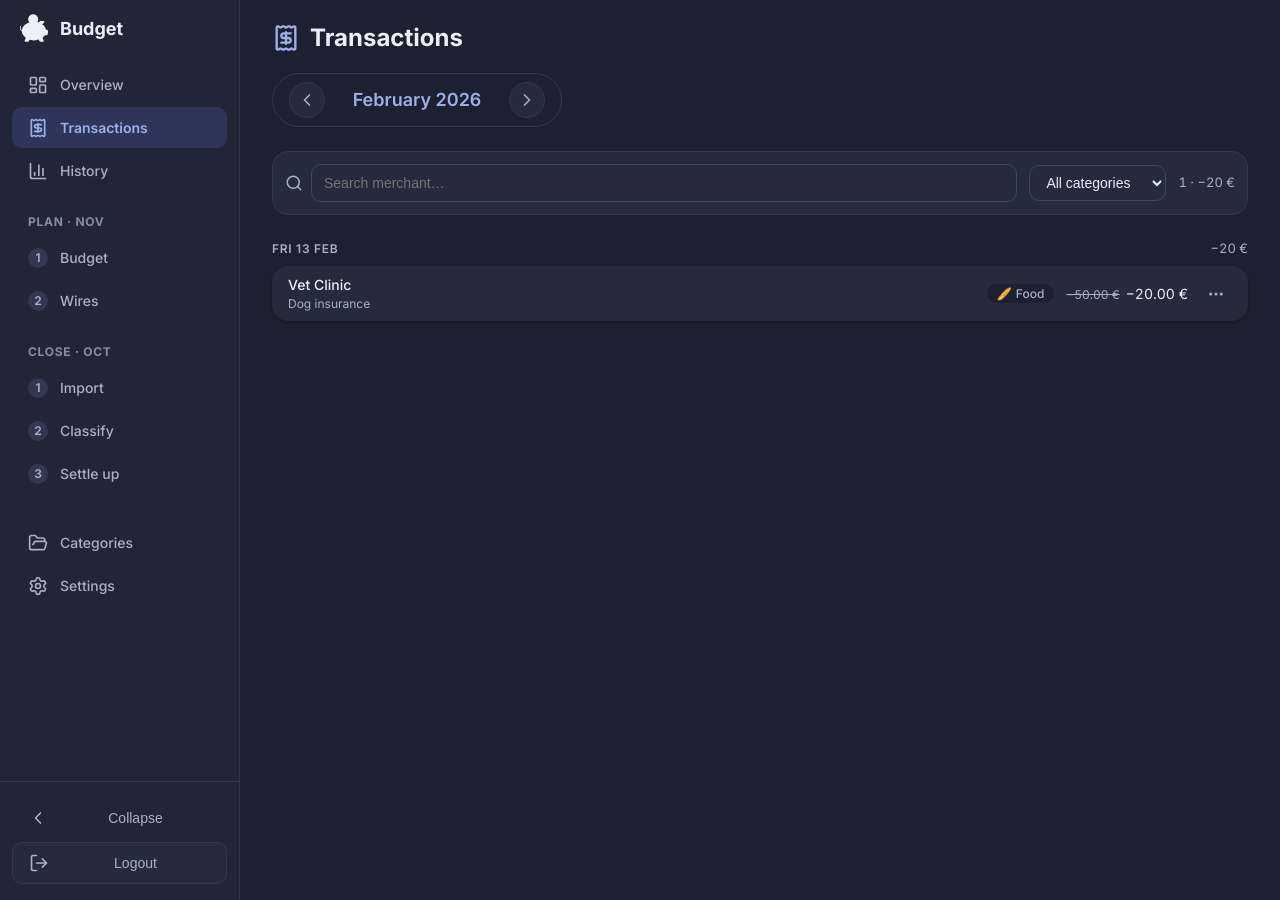
Test: Transactions Page › should show reimbursement note and effective amount when reimbursedAmount > 0
Expected: the text "Vet Clinic" is shown, [288,276,351,293]
Expected: the text "Dog insurance" is shown, [288,296,370,311]
Click the button named "Actions for Vet Clinic" at (1216, 294), box [1200,278,1232,310]
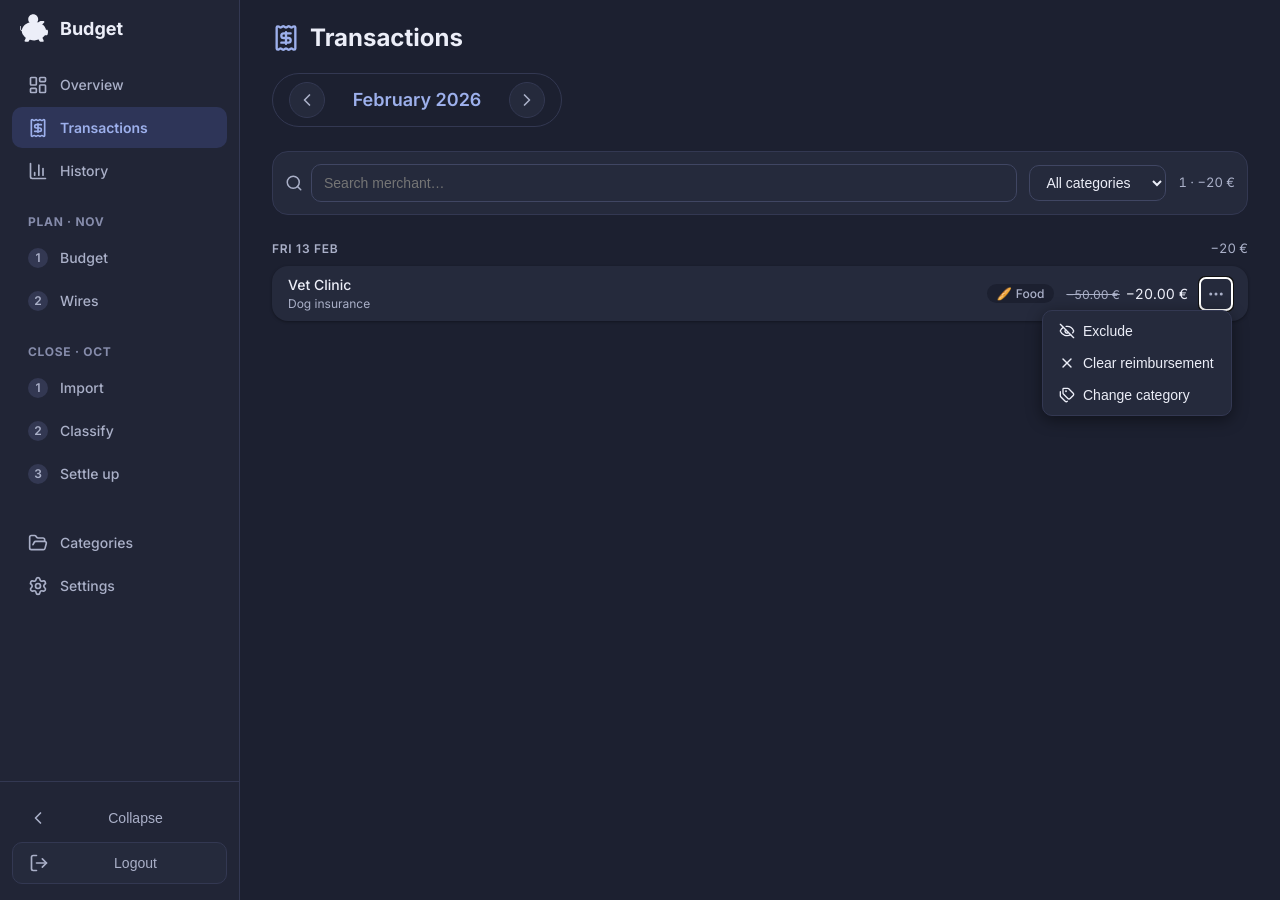
Now the menu item "Clear reimbursement" is shown, box [1047,347,1227,379]
